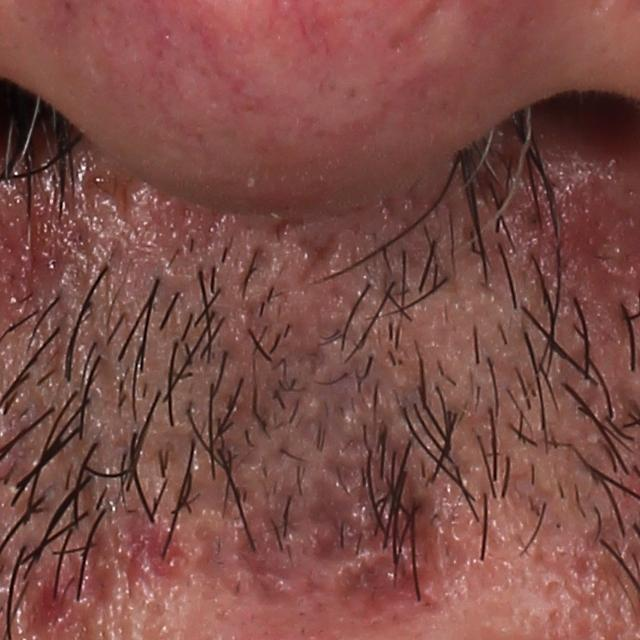atrophic_scar: (311, 430, 434, 569), (339, 551, 437, 630), (237, 501, 306, 601), (192, 515, 240, 587), (82, 517, 118, 612), (76, 165, 131, 223), (298, 232, 339, 283)
